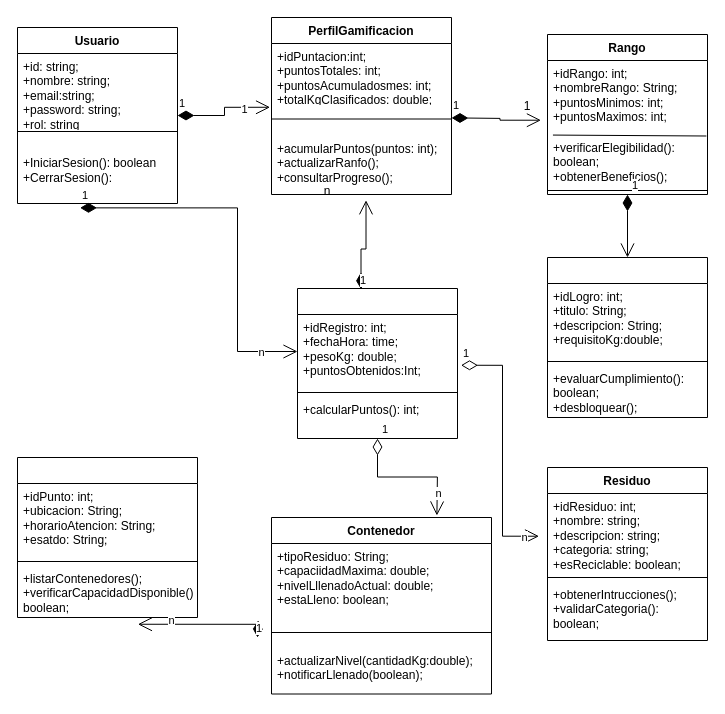
This 725x714 diagram has some shape labels left out. The box of each missing label's shape, as (x1, y1, x2, y2) in pixels:
Logro (Insigna): (546, 256, 708, 418)
PuntoLimpio: (16, 456, 198, 618)
RegistroClasificacion: (296, 288, 458, 438)
